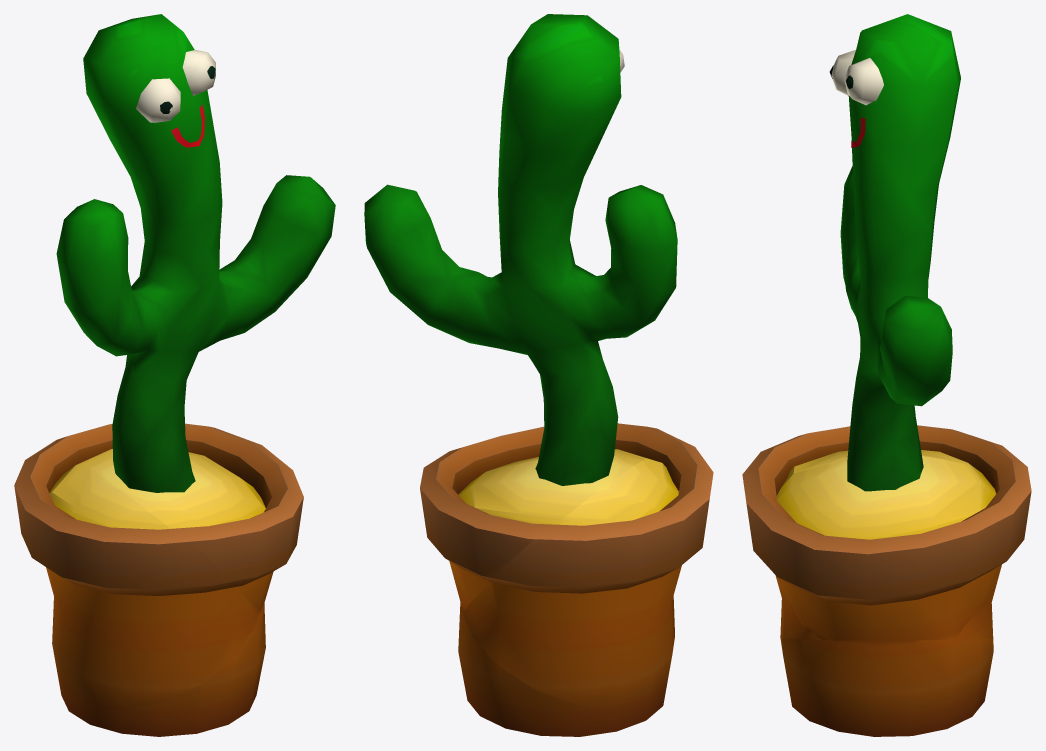
File: Cactus Toy break.fbx
3 renders of one model, left to right at view 1: azimuth 30°, elevation 25°; view 2: azimuth 150°, elevation 25°; view 3: azimuth 270°, elevation 25°, orthographic.
Visible parts, largest first — view 1: Cactus Toy, Cactus Toy.002, Cactus Toy.003, Cactus Toy.001; view 2: Cactus Toy, Cactus Toy.002, Cactus Toy.003, Cactus Toy.001; view 3: Cactus Toy, Cactus Toy.003, Cactus Toy.001, Cactus Toy.002.
Boxes of the visible parts, bbox=[...] form: Cactus Toy: bbox=[56, 14, 335, 492]; Cactus Toy.002: bbox=[14, 442, 260, 710]; Cactus Toy.003: bbox=[53, 423, 303, 613]; Cactus Toy.001: bbox=[57, 603, 265, 736]; Cactus Toy: bbox=[364, 14, 677, 485]; Cactus Toy.002: bbox=[462, 437, 713, 710]; Cactus Toy.003: bbox=[420, 423, 673, 612]; Cactus Toy.001: bbox=[458, 608, 666, 736]; Cactus Toy: bbox=[829, 14, 960, 491]; Cactus Toy.003: bbox=[742, 453, 1031, 640]; Cactus Toy.001: bbox=[780, 638, 993, 736]; Cactus Toy.002: bbox=[751, 425, 1023, 639].
Size of the model in its own units: 15.68 by 32.78 by 12.81.
